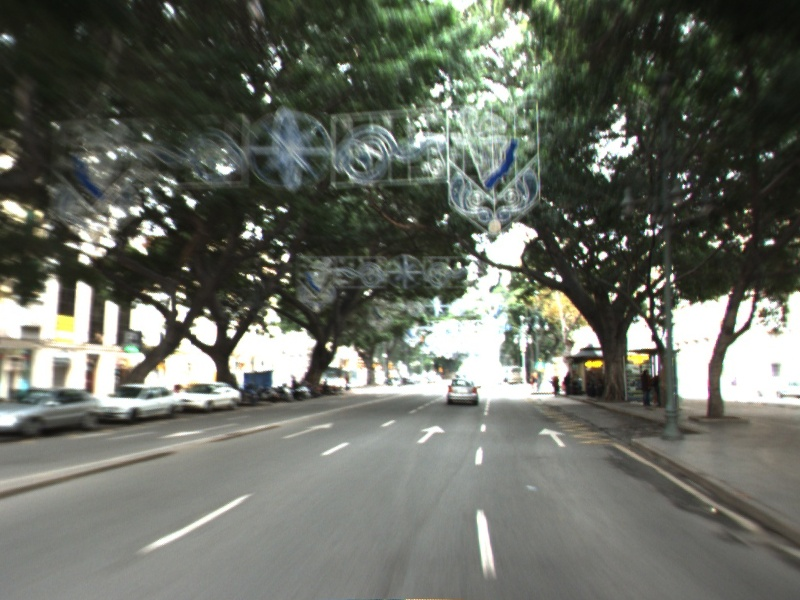STRAIGHT: (279, 420, 337, 441), (536, 426, 570, 449), (414, 423, 448, 445)
